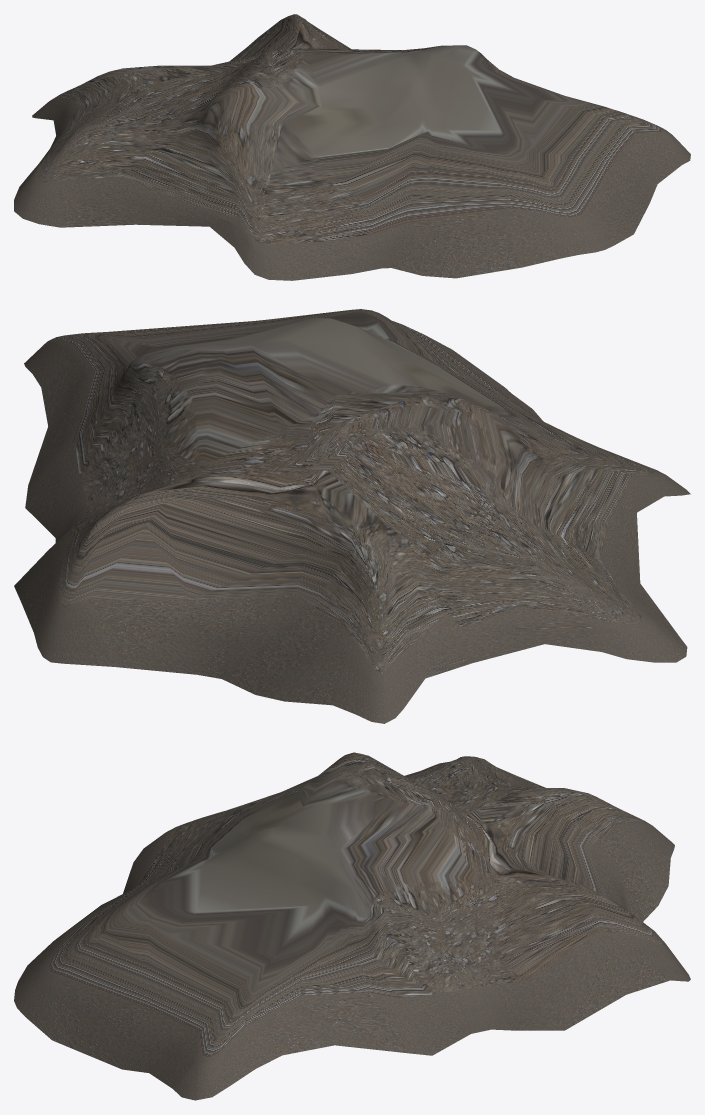
Rendered from cave_wall_bumps_01.dae.
3 renders of one model, top to bottom at view 1: azimuth 30°, elevation 25°; view 2: azimuth 150°, elevation 25°; view 3: azimuth 270°, elevation 25°, orthographic. The views are drawn at different scales.
Visible parts, largest first — view 1: 01; view 2: 01; view 3: 01.
Part boxes in pixels (bbox=[...]): 01: bbox=[14, 14, 690, 280]; 01: bbox=[14, 309, 690, 723]; 01: bbox=[14, 752, 690, 1100].
Size of what is drawn, in the model's own units: 2.67 by 0.5587 by 2.36.
1 material, 1 textured.
